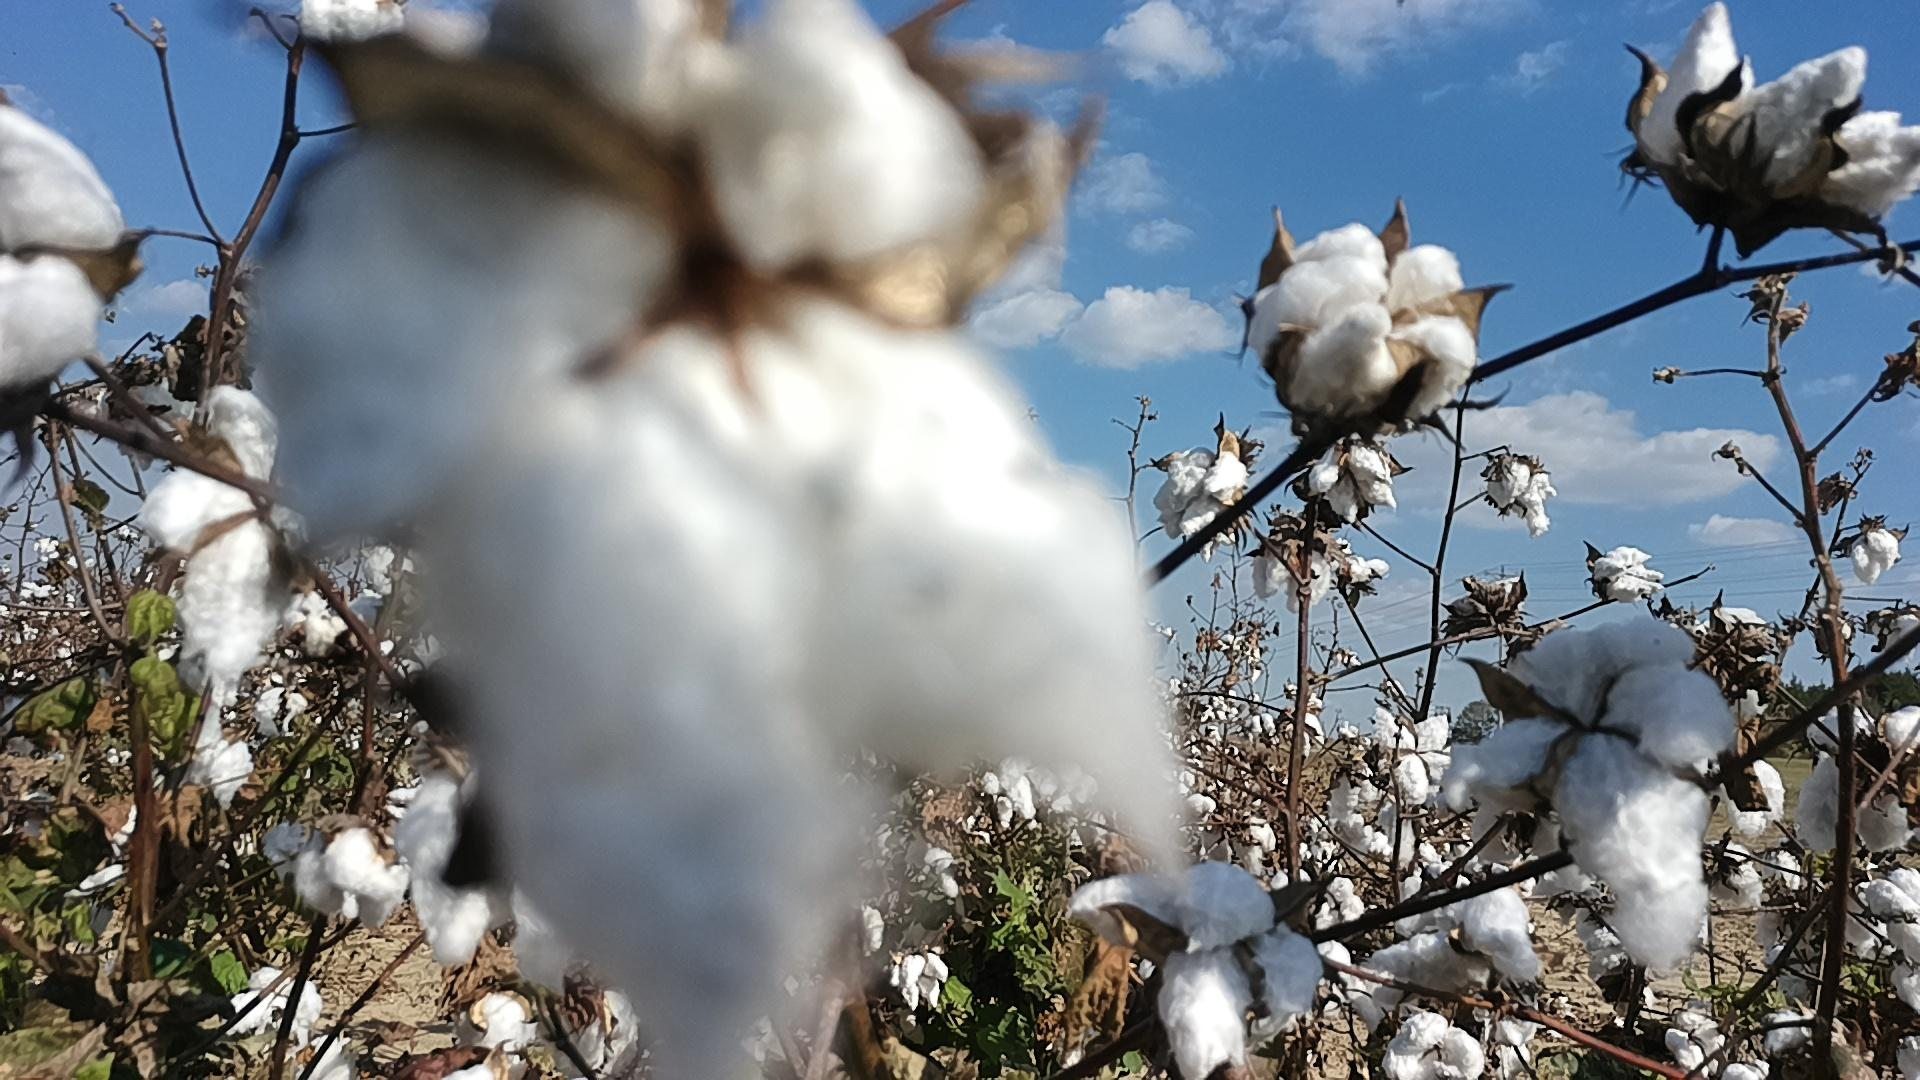cotton_ready: (241, 0, 1203, 1080), (1469, 613, 1746, 981), (1633, 0, 1920, 223), (142, 385, 332, 686), (1069, 858, 1323, 1080), (1242, 222, 1481, 433), (401, 773, 584, 1005), (0, 91, 136, 397), (1345, 886, 1540, 1033), (167, 659, 307, 823), (1791, 696, 1920, 861), (472, 973, 647, 1080), (258, 814, 411, 931), (1158, 450, 1246, 555), (1300, 439, 1403, 526), (233, 963, 322, 1059), (1383, 1010, 1484, 1080)
